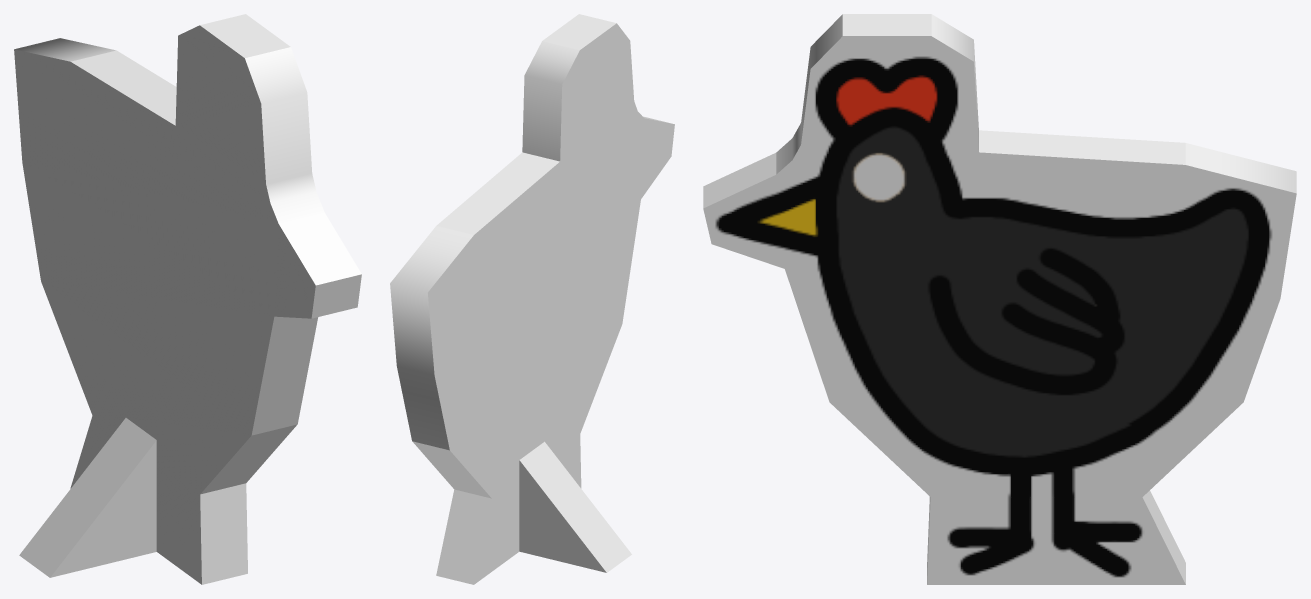
Rendered from chicken black.fbx.
3 views of the same model, side by side, from view 1: azimuth 30°, elevation 25°; view 2: azimuth 150°, elevation 25°; view 3: azimuth 270°, elevation 25° (orthographic). The views are drawn at different scales.
Parts seen in each view (by area): view 1: pCube12, pCube38; view 2: pCube12, pCube38; view 3: pCube12.
Part boxes in pixels (x1=…): pCube12: x1=14, y1=14, x2=361, y2=584; pCube38: x1=19, y1=418, x2=156, y2=577; pCube12: x1=390, y1=14, x2=674, y2=584; pCube38: x1=519, y1=441, x2=631, y2=572; pCube12: x1=703, y1=14, x2=1296, y2=584.
Size of the model in its own units: 1.43 by 4.99 by 4.89.
